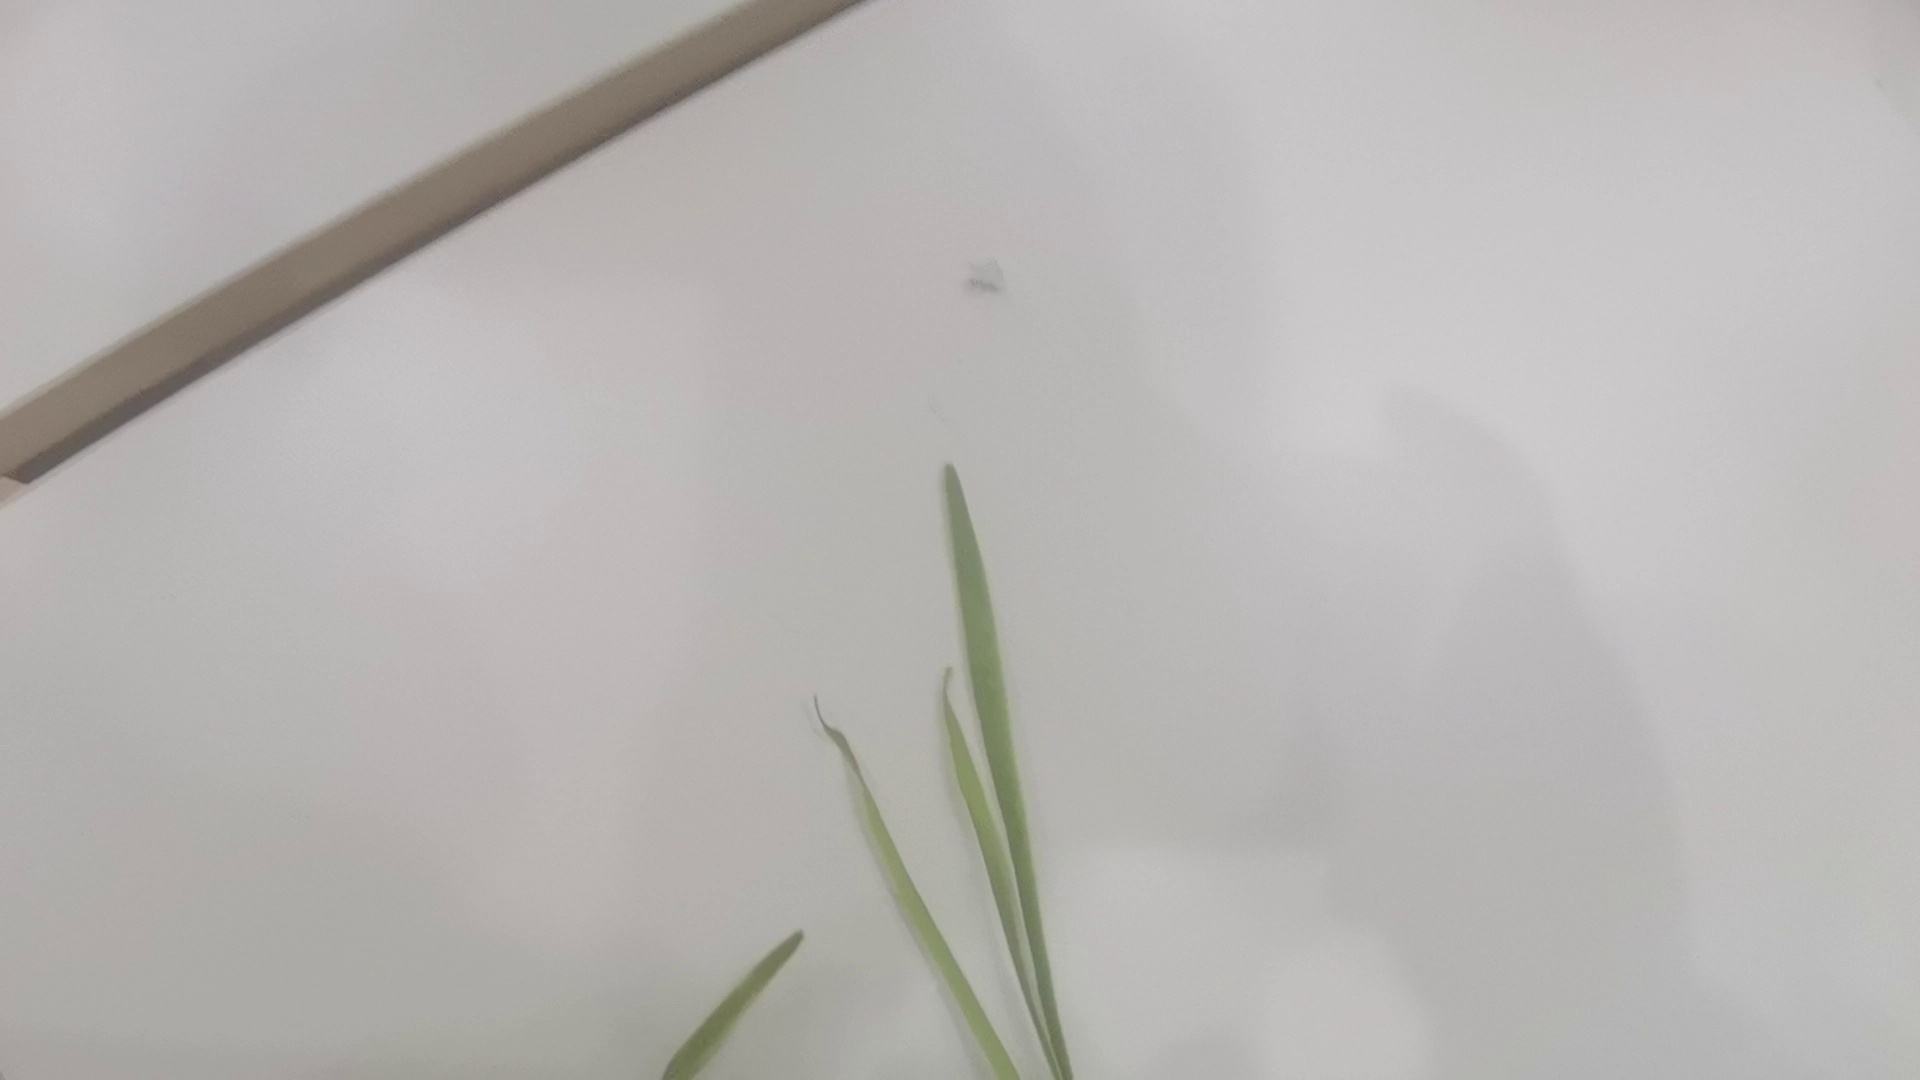chives: (655, 467, 1081, 1080)
